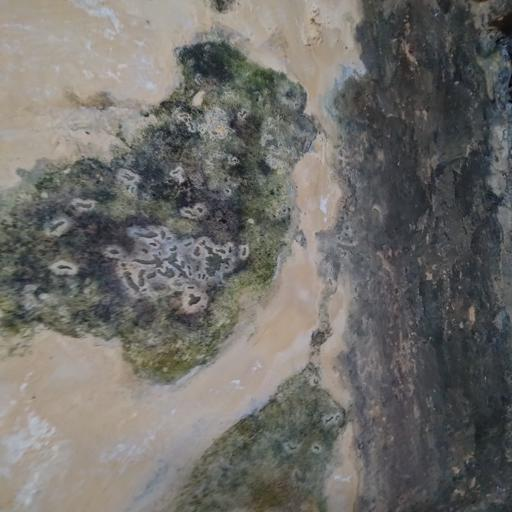algae: (5, 37, 512, 512)
